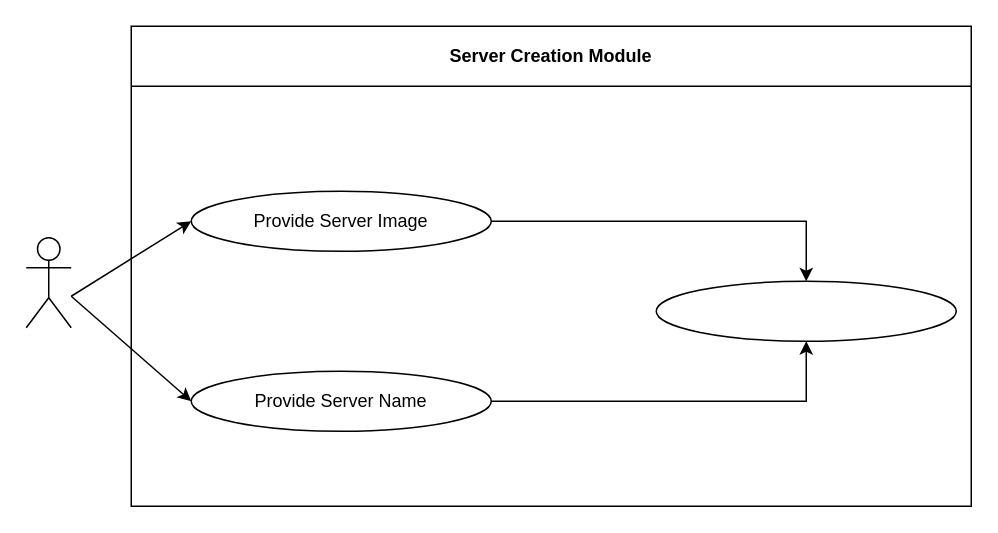
This 998x533 diagram has some shape labels left out. Here are the shapes that lost their labels. From the top down, the box of each, then its label:
(25, 236, 71, 328): Actor
(655, 280, 956, 341): Create Server
